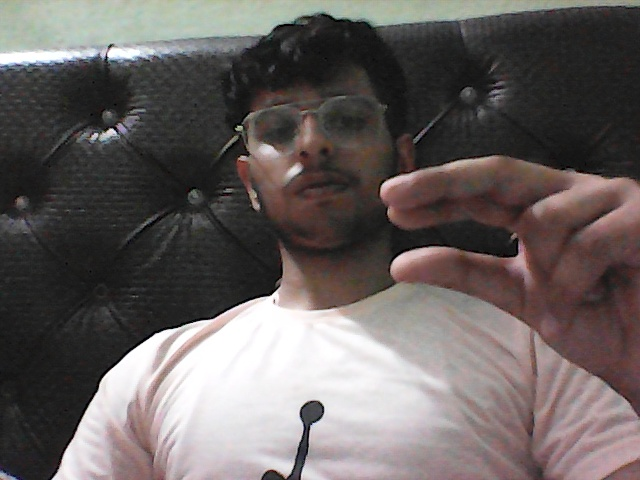no: (347, 130, 640, 412)
